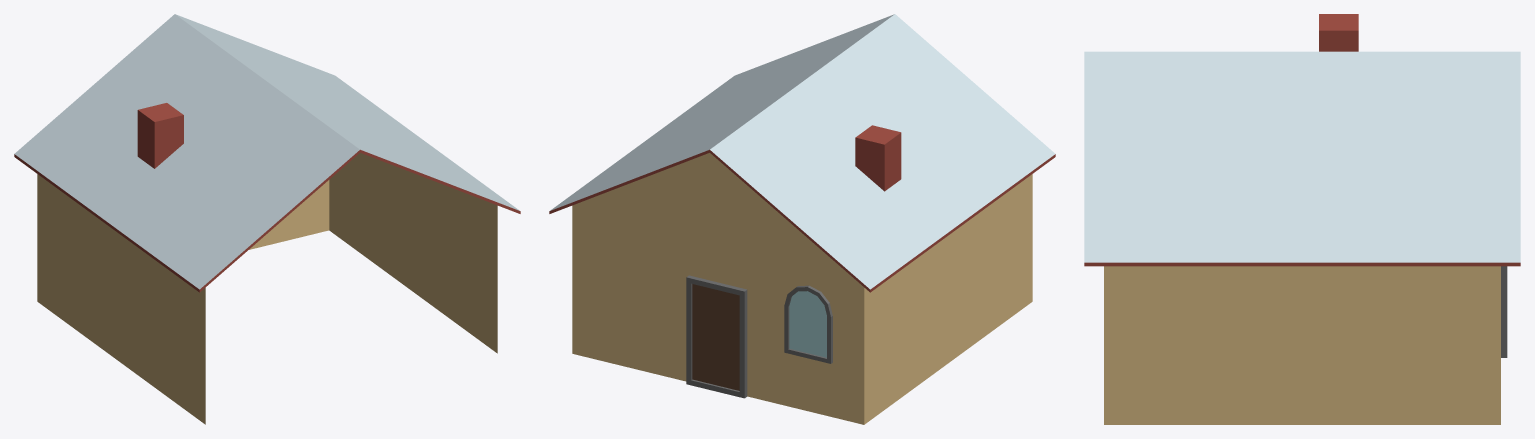
File: House1.fbx
3 views of the same model, side by side, from view 1: azimuth 30°, elevation 25°; view 2: azimuth 150°, elevation 25°; view 3: azimuth 270°, elevation 25° (orthographic). The views are drawn at different scales.
Visible parts, largest first — view 1: House1; view 2: House1; view 3: House1.
Boxes of the visible parts, left/top/right/bottom form: House1: left=14, top=14, right=520, bottom=424; House1: left=549, top=14, right=1055, bottom=424; House1: left=1084, top=14, right=1520, bottom=424.
Bounding box in the file's own units: 22 × 22 × 16.1.
